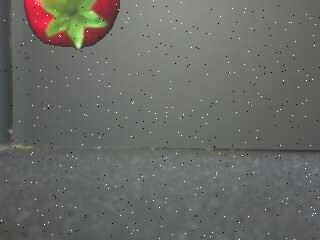Tomato: (21, 0, 123, 51)
